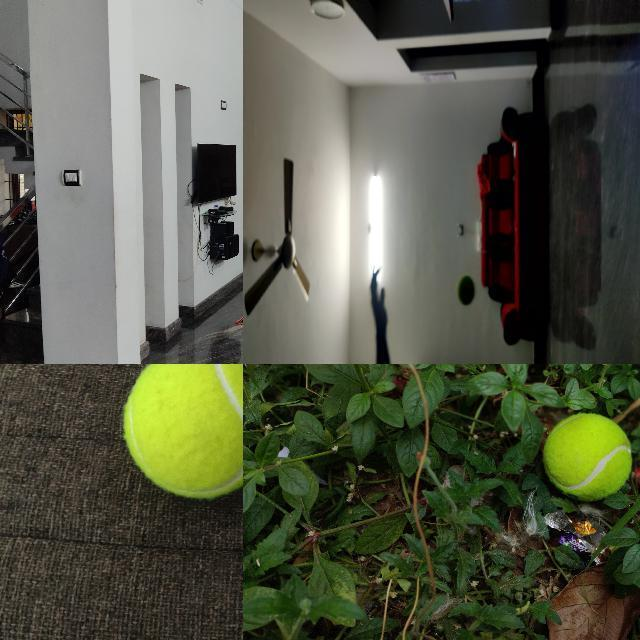tennis-ball: (122, 364, 242, 500), (543, 413, 632, 500), (456, 276, 474, 305)
